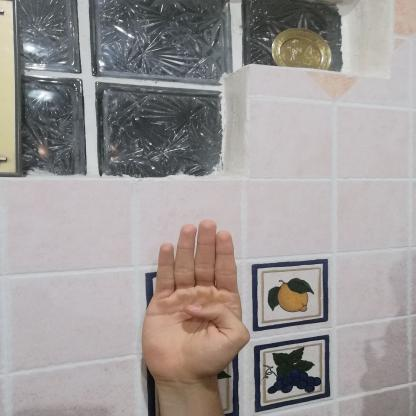KAAF: (134, 212, 257, 393)
